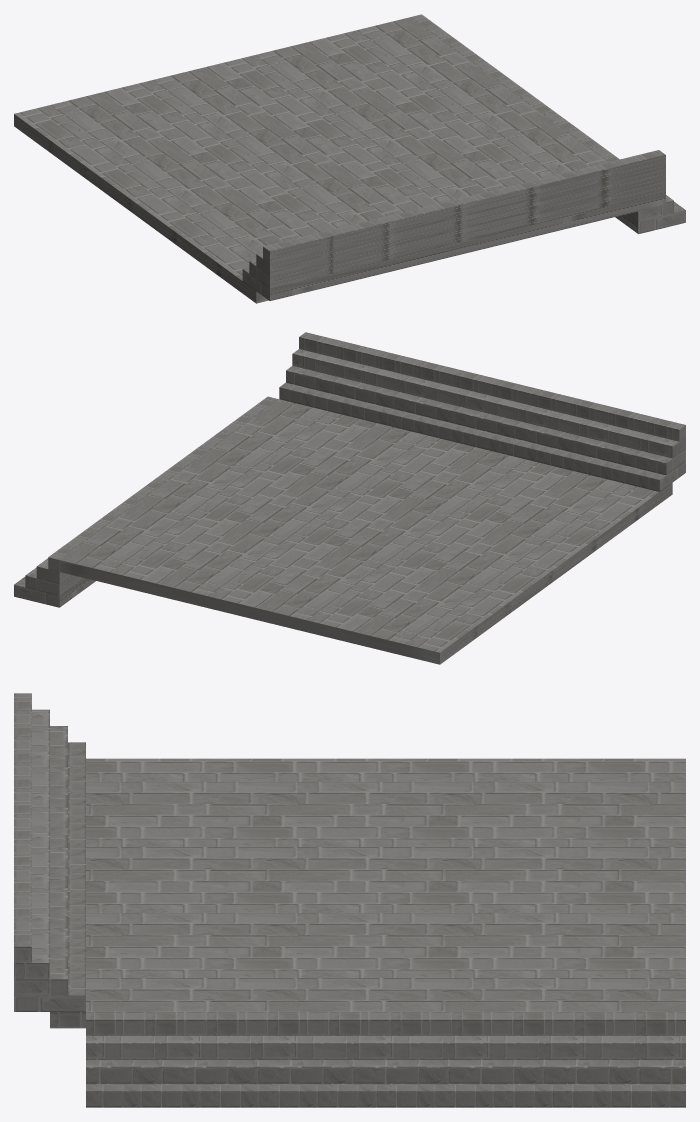
Rendered from EscaliersQuiTourneGauche.fbx.
3 renders of one model, top to bottom at view 1: azimuth 30°, elevation 25°; view 2: azimuth 150°, elevation 25°; view 3: azimuth 270°, elevation 25°, orthographic. The views are drawn at different scales.
Visible parts, largest first — view 1: EscalierGauche; view 2: EscalierGauche; view 3: EscalierGauche.
Part boxes in pixels (x1,y1,x2,y2): EscalierGauche: [14, 14, 685, 303]; EscalierGauche: [14, 332, 685, 664]; EscalierGauche: [14, 693, 685, 1107].
Bounding box in the file's own units: 1120 × 240 × 1120.
